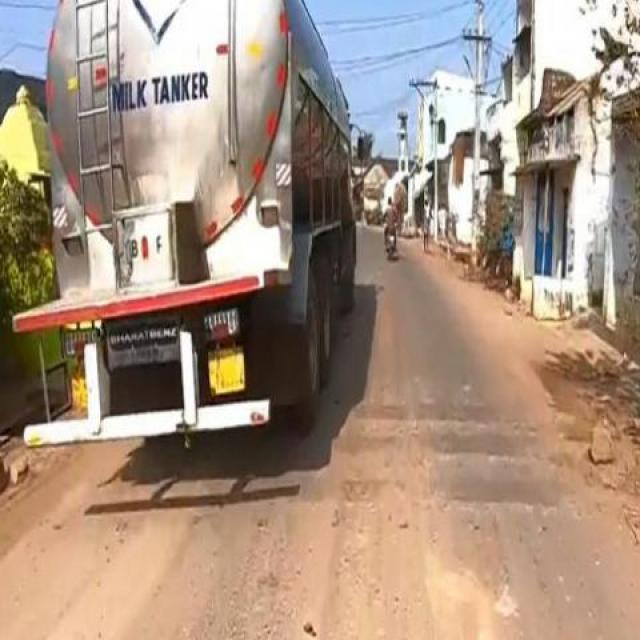Unmarked Bump: (80, 462, 572, 517), (314, 420, 574, 460), (321, 398, 572, 418)
